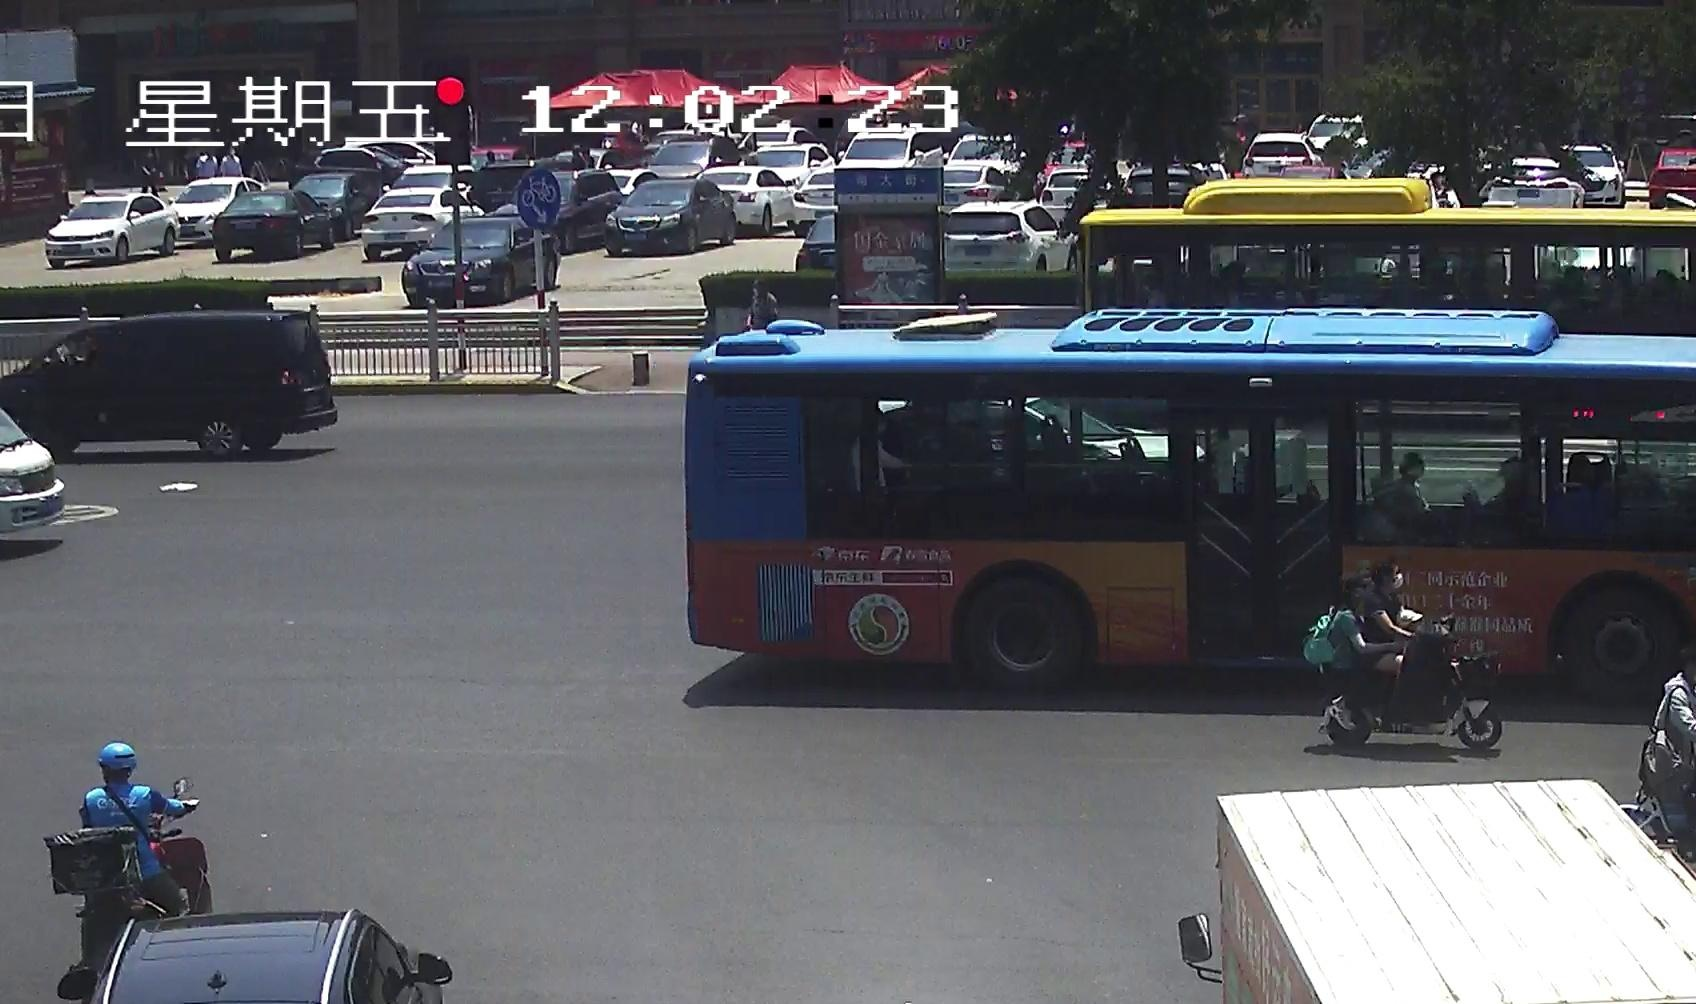red: (433, 74, 472, 109)
